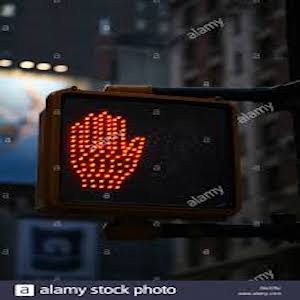red: (67, 108, 146, 193)
